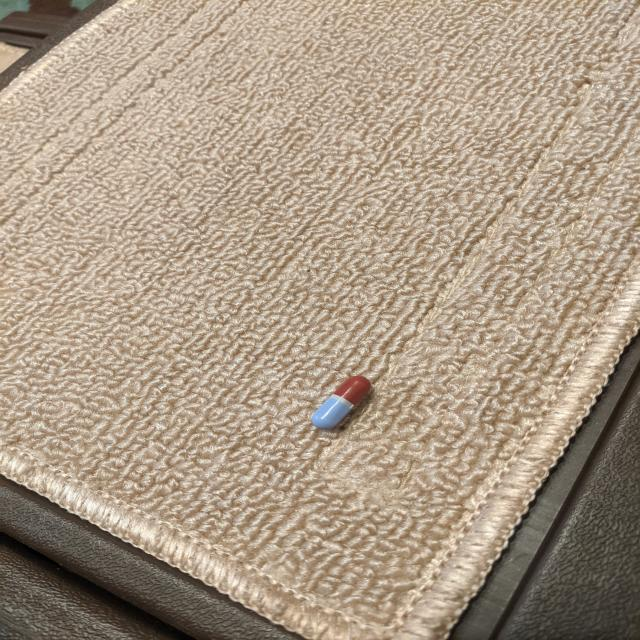non-organic waste: (310, 374, 374, 432)
